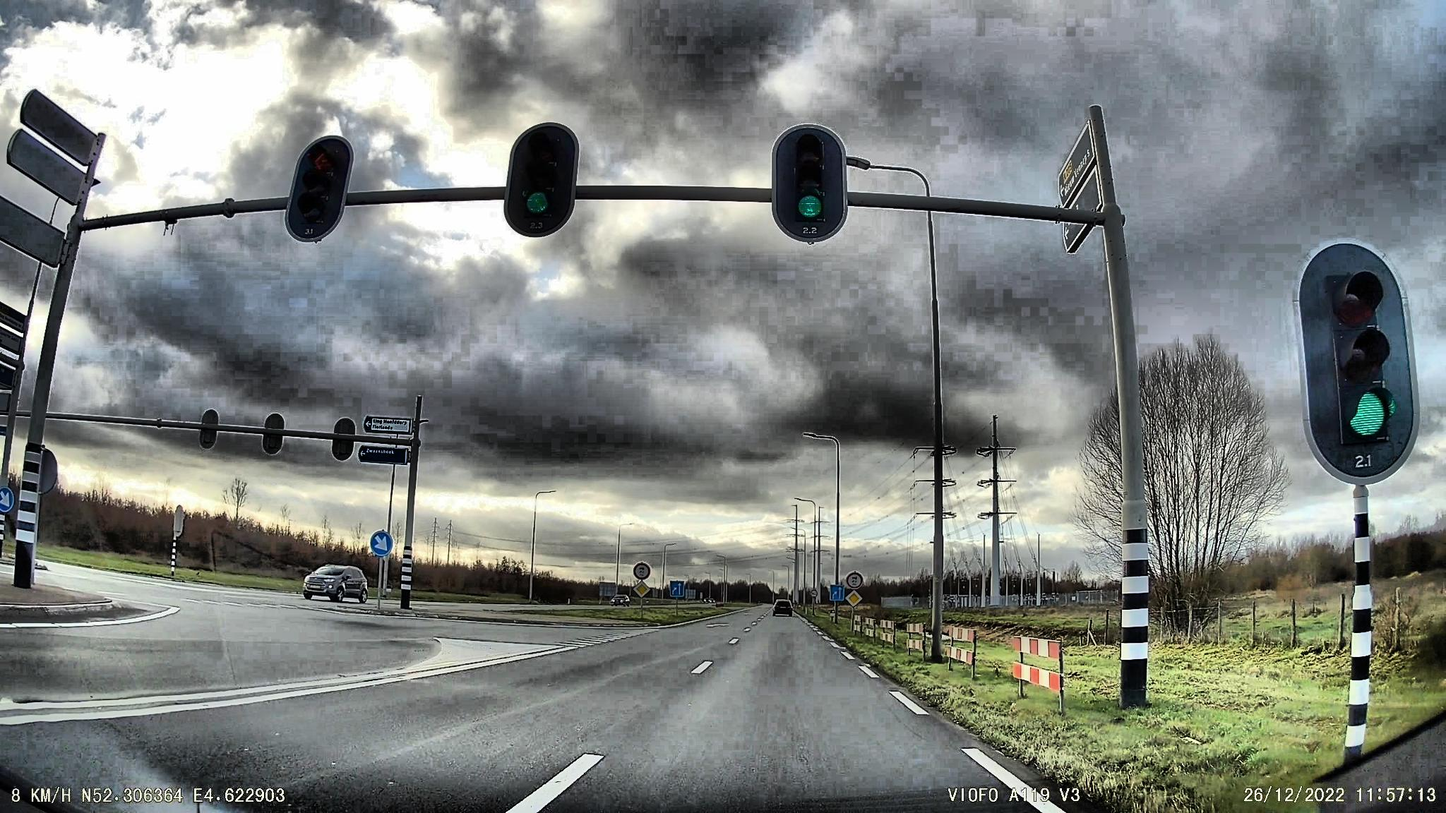Roads: (0, 563, 1070, 813)
